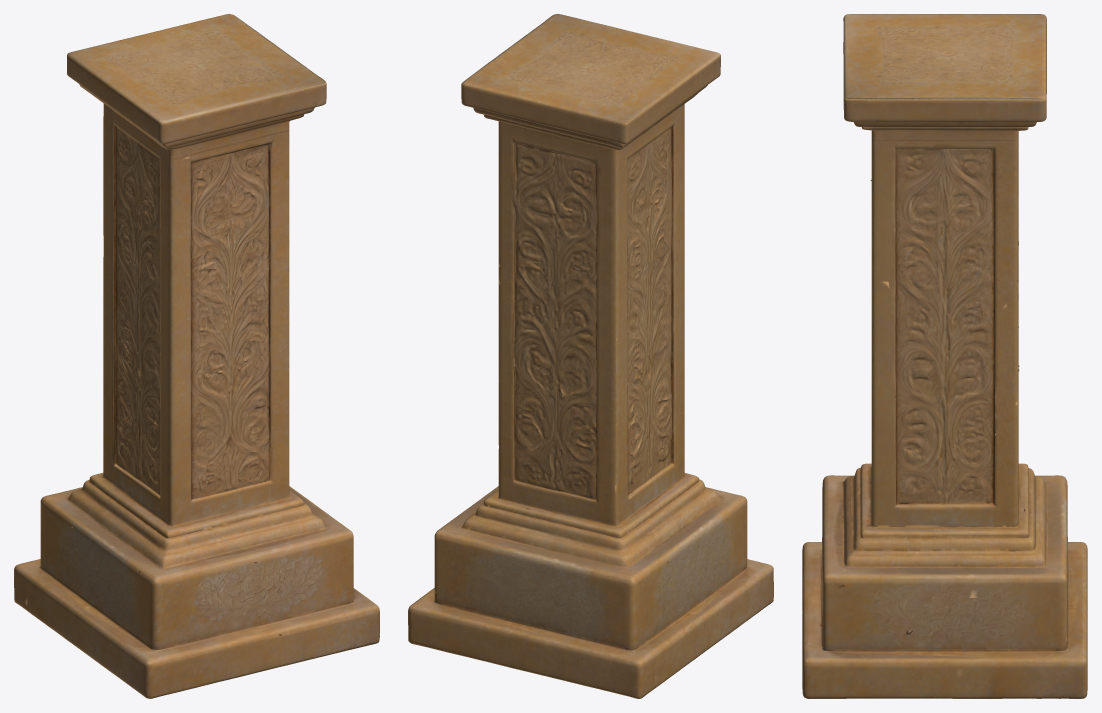
Rendered from Ornate_Stone_Pedestal_0724225426_texture.fbx.
3 views of the same model, side by side, from view 1: azimuth 30°, elevation 25°; view 2: azimuth 150°, elevation 25°; view 3: azimuth 270°, elevation 25° (orthographic). The views are drawn at different scales.
Visible parts, largest first — view 1: input; view 2: input; view 3: input.
Boxes of the visible parts, x1,y1,x2,y2 form: input: (14, 14, 379, 698); input: (408, 14, 773, 698); input: (802, 14, 1087, 698).
Bounding box in the file's own units: 88.56 × 200 × 88.58.
1 material, 1 textured.
